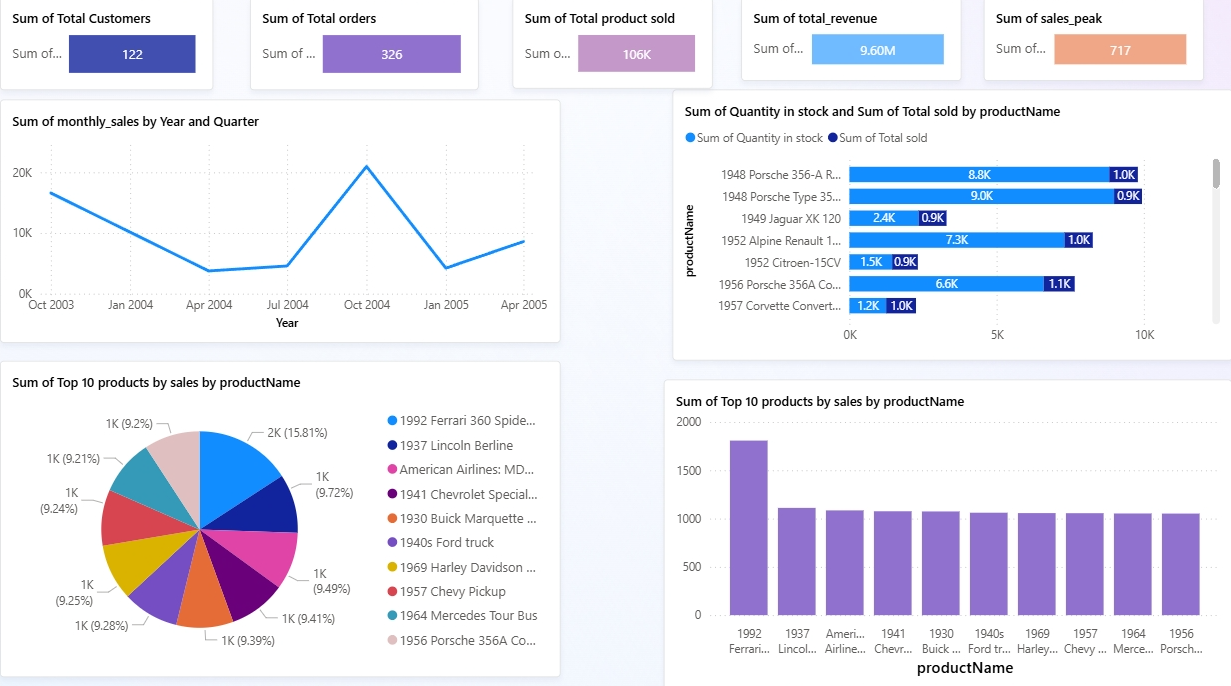

Layout of this report page (visuals, bound fields, positions):
{"tool":"powerbi","page":{"name":"Page 1","canvas":[1280,720],"ordinal":0},"visuals":[{"type":"pieChart","fields":{"Category":["Total sold in DESC 2 0.productName"],"Y":["Sum(Total sold in DESC 2 0.total_sold)"]},"box":[9.8,0,604.1,359.5],"z":0},{"type":"columnChart","fields":{"Category":["Total sold in DESC 2 0.productName"],"Y":["Sum(Total sold in DESC 2 0.total_sold)"]},"box":[9.8,388.9,616.3,331.4],"z":1000},{"type":"lineChart","fields":{"Category":["sales peak.month.Variation.Date Hierarchy.Year","sales peak.month.Variation.Date Hierarchy.Quarter","sales peak.month.Variation.Date Hierarchy.Month","sales peak.month.Variation.Date Hierarchy.Day"],"Y":["Sum(sales peak.monthly_sales)"]},"box":[797.3,388.9,483,331.4],"z":2000},{"type":"barChart","fields":{"Category":["stategic results -- demand vs  inventory.productName","sales peak.month.Variation.Date Hierarchy.Year","sales peak.month.Variation.Date Hierarchy.Quarter","sales peak.month.Variation.Date Hierarchy.Month","sales peak.month.Variation.Date Hierarchy.Day"],"Y":["Sum(stategic results -- demand vs  inventory.quantityInStock)","Sum(stategic results -- demand vs  inventory.total_sold)"]},"box":[766.7,0,513.6,359.5],"z":3000},{"type":"funnel","fields":{"Y":["Sum(stategic results -- demand vs  inventory.total_sold)","Sum(total_revenue.total_revenue)","Sum(sales peak.monthly_sales)"]},"box":[542.9,320.4,254.3,182.2],"z":3001}]}

Visuals, with their boxes in screenshot pixels (x1, y1, x2, y2), scaled from the page's 1280x720 canvas onto the 1231x686 screenshot:
pieChart - Total sold in DESC 2 0.productName x Sum(Total sold in DESC 2 0.total_sold): 9 0 590 343
columnChart - Total sold in DESC 2 0.productName x Sum(Total sold in DESC 2 0.total_sold): 9 371 602 685
lineChart - sales peak.month.Variation.Date Hierarchy.Year x sales peak.month.Variation.Date Hierarchy.Quarter: 767 371 1230 685
barChart - stategic results -- demand vs  inventory.productName x sales peak.month.Variation.Date Hierarchy.Year: 737 0 1230 343
funnel - Sum(stategic results -- demand vs  inventory.total_sold) x Sum(total_revenue.total_revenue): 522 305 767 479
